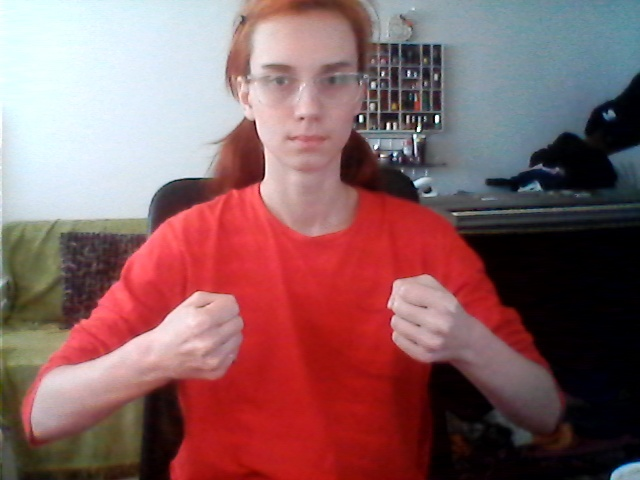auto: (175, 271, 472, 390)
